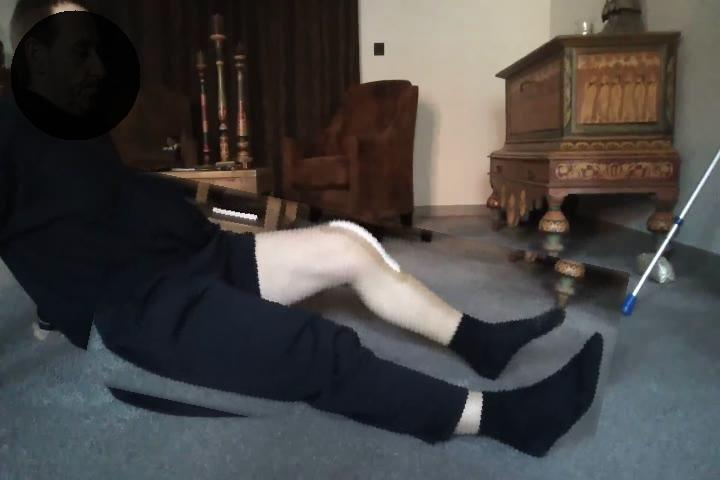lower_body: (90, 192, 623, 464)
